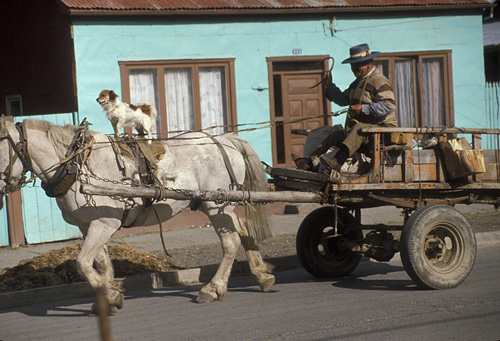horse: (1, 112, 277, 313)
